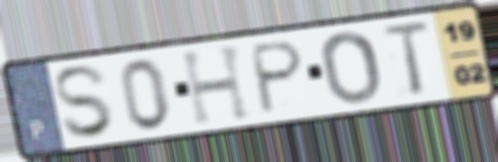0: (116, 55, 174, 134)
H: (177, 41, 256, 128)
O: (318, 29, 384, 106)
P: (250, 38, 308, 118)
S: (50, 62, 118, 141)
T: (378, 18, 434, 99)
